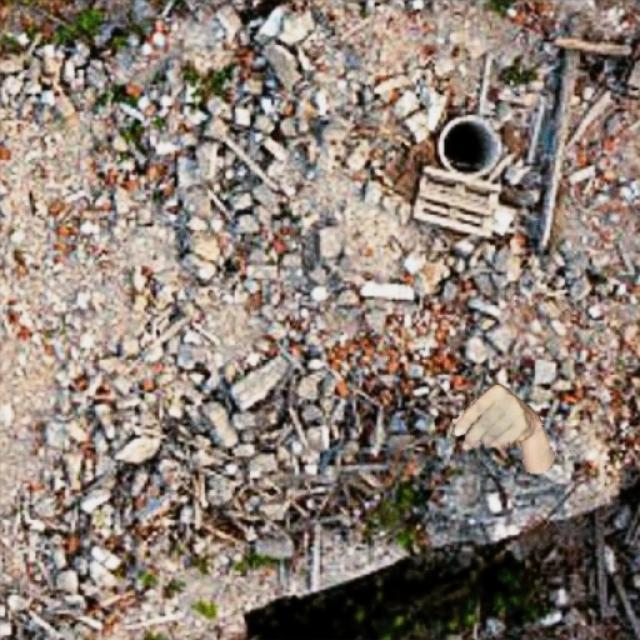Person in Rubble: (451, 385, 554, 473)
